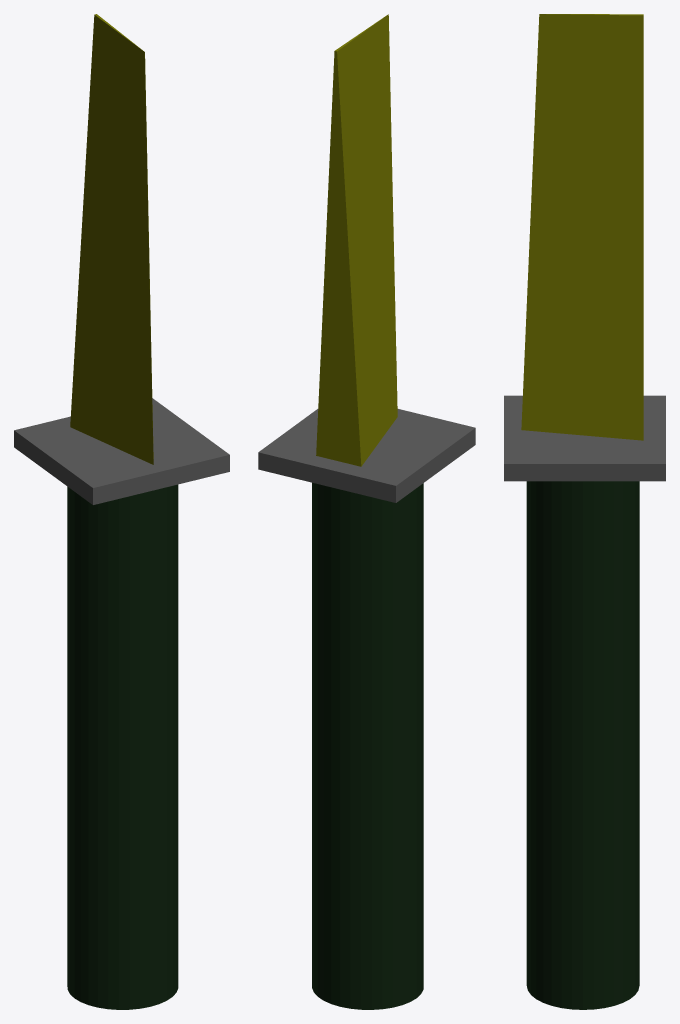
File: knife.fbx
3 views of the same model, side by side, from view 1: azimuth 30°, elevation 25°; view 2: azimuth 150°, elevation 25°; view 3: azimuth 270°, elevation 25° (orthographic). The views are drawn at different scales.
Parts seen in each view (by area): view 1: Cylinder, Cube.001, Cube; view 2: Cylinder, Cube.001, Cube; view 3: Cylinder, Cube.001, Cube.
Boxes of the visible parts, x1,y1,x2,y2 form: Cylinder: (67,484,178,1009); Cube.001: (70,14,153,464); Cube: (14,398,229,504); Cylinder: (312,482,423,1009); Cube.001: (316,14,397,466); Cube: (258,409,475,502); Cylinder: (526,481,639,1009); Cube.001: (521,14,643,440); Cube: (504,395,665,481).
Bounding box in the file's own units: 67.72 × 449 × 67.72.
